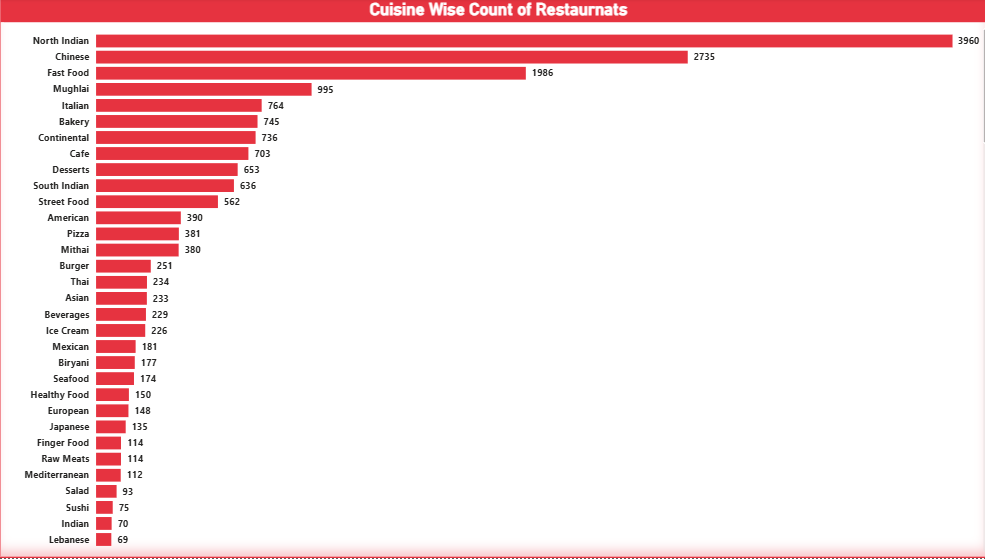

The dashboard page shown, as its layout file describes it:
{"tool":"powerbi","page":{"name":"Page 6","canvas":[1280,720],"ordinal":5},"visuals":[{"type":"clusteredBarChart","title":"Cuisine Wise Count of Restaurnats","fields":{"Category":["Sheet1.Cuisines"],"Y":["CountNonNull(Sheet1.Cuisines)"]},"box":[0,0,1280,719.7],"z":0}]}

Visuals, with their boxes in screenshot pixels (x1, y1, x2, y2), scaled from the page's 1280x720 canvas onto the 985x559 screenshot:
"Cuisine Wise Count of Restaurnats" clusteredBarChart: locate(0, 0, 984, 558)
